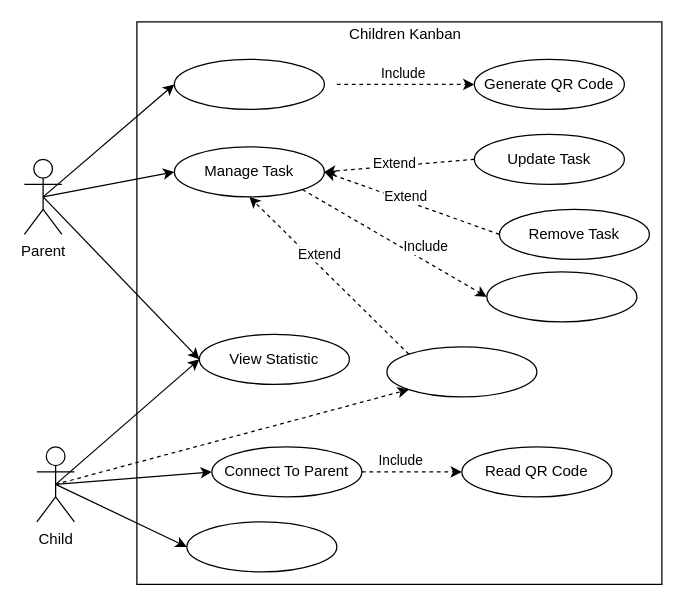
Some shapes in this 684 by 606 pixel diagram are drawn without their labels. The centre of each missing label's shape, as x and y in pixels:
Add Child: pixel 248 83
Change Task Status: pixel 261 546
Create Task: pixel 561 296
Read Task: pixel 461 371
